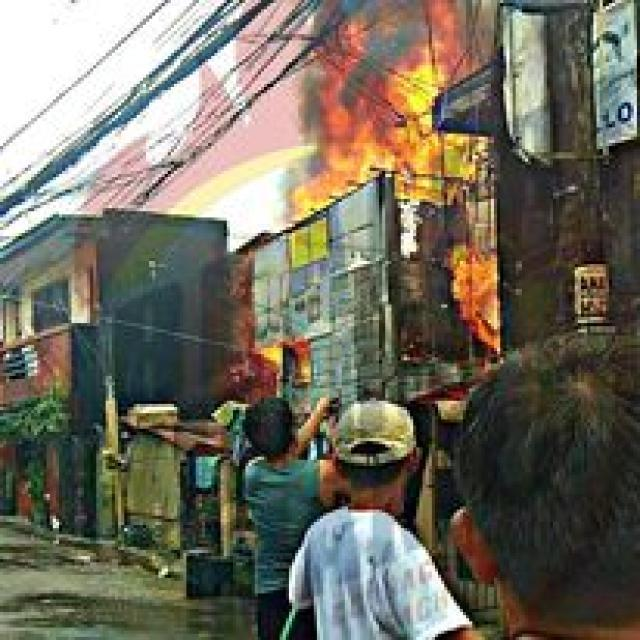Fire: (294, 52, 480, 259), (447, 243, 504, 352), (255, 338, 304, 376)
Smoke: (302, 0, 506, 140)
